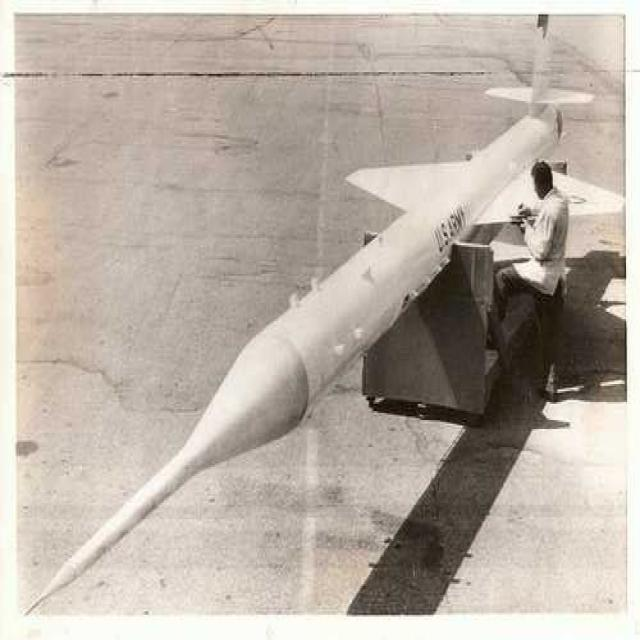missile: (14, 11, 628, 622)
